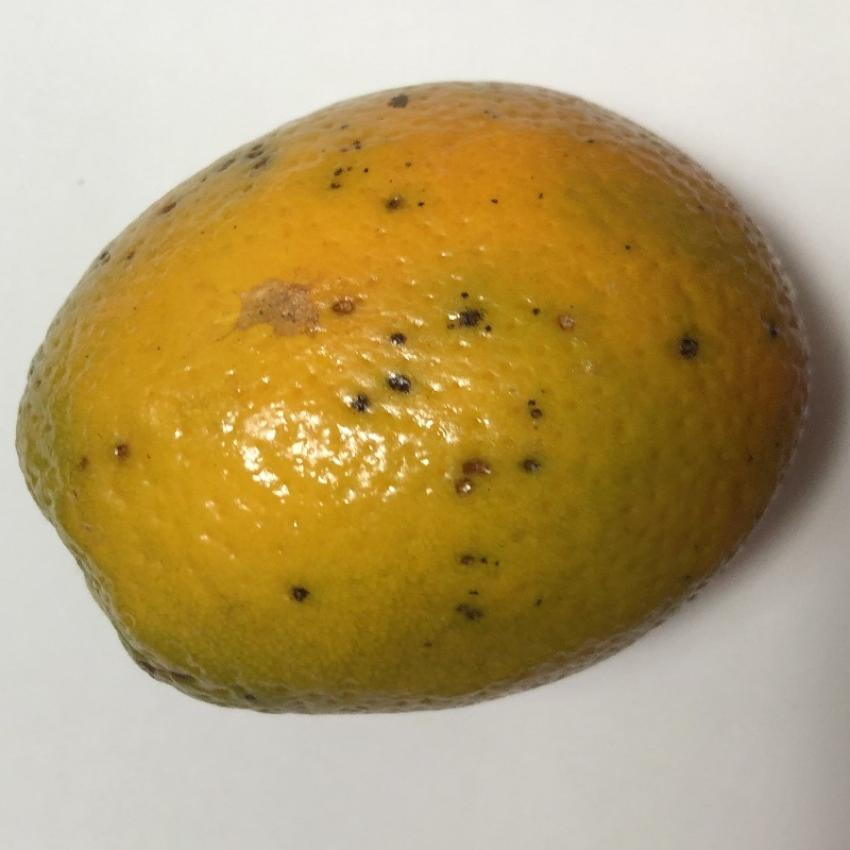Mal estado: (11, 58, 819, 731)
